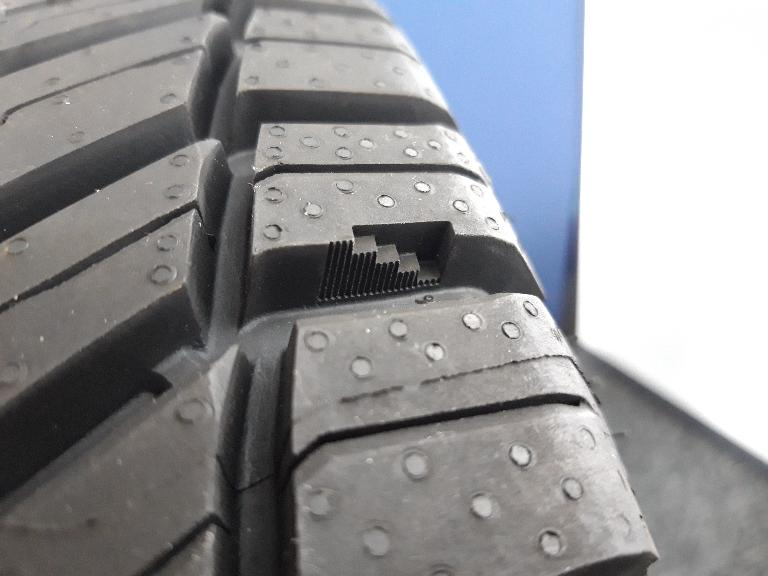temoin:100: (314, 219, 460, 306)
